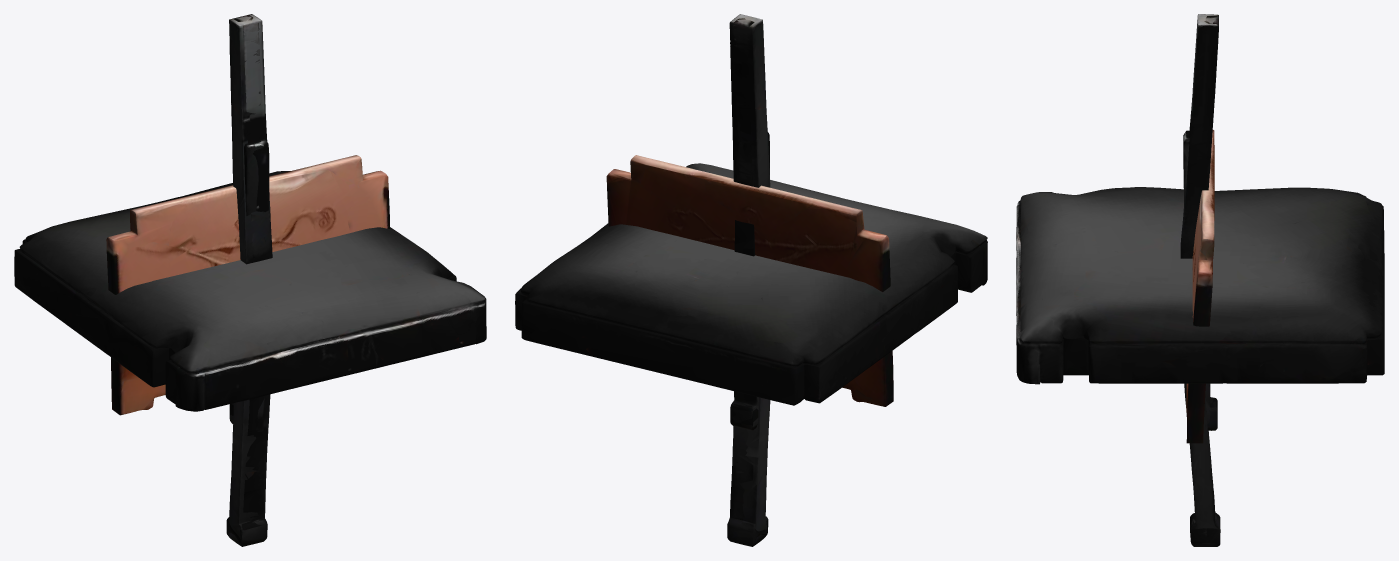
3 views of the same model, side by side, from view 1: azimuth 30°, elevation 25°; view 2: azimuth 150°, elevation 25°; view 3: azimuth 270°, elevation 25° (orthographic).
Parts seen in each view (by area): view 1: root.0, root.1, root.2, root.3, root.5, root.4; view 2: root.0, root.1, root.2, root.3, root.5; view 3: root.0, root.3, root.1, root.2, root.4.
Part boxes in pixels (left/top/right/bottom): root.0: left=14, top=171, right=486, bottom=411; root.1: left=106, top=155, right=390, bottom=415; root.2: left=228, top=15, right=267, bottom=546; root.3: left=226, top=14, right=272, bottom=546; root.5: left=230, top=140, right=264, bottom=421; root.4: left=229, top=139, right=269, bottom=424; root.0: left=515, top=163, right=987, bottom=405; root.1: left=606, top=155, right=893, bottom=406; root.2: left=727, top=16, right=770, bottom=546; root.3: left=727, top=14, right=768, bottom=546; root.5: left=730, top=132, right=769, bottom=429; root.0: left=1016, top=187, right=1384, bottom=384; root.3: left=1180, top=16, right=1220, bottom=546; root.1: left=1186, top=130, right=1214, bottom=443; root.2: left=1180, top=14, right=1220, bottom=546; root.4: left=1183, top=134, right=1217, bottom=427.
Bounding box in the file's own units: 16801 × 27054 × 17289.
1 material, 1 textured.
